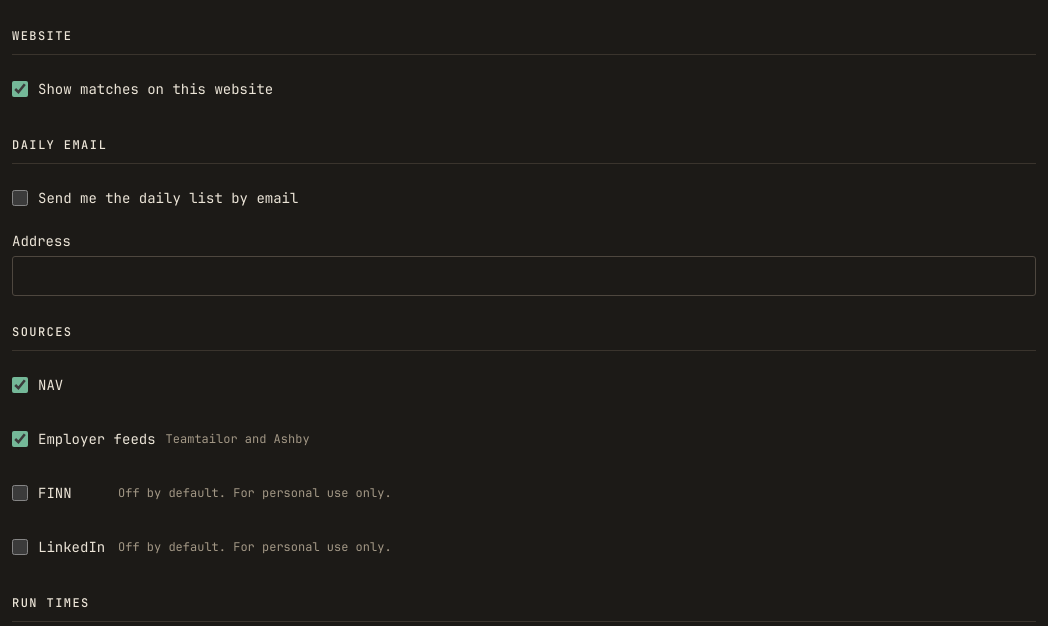
Test: DeliverySettings › should refuse to turn off the website when email is off
The image size is (1048, 626).
Click the checkbox labelled "Show matches on this website": (20, 89) [12, 81, 28, 97]
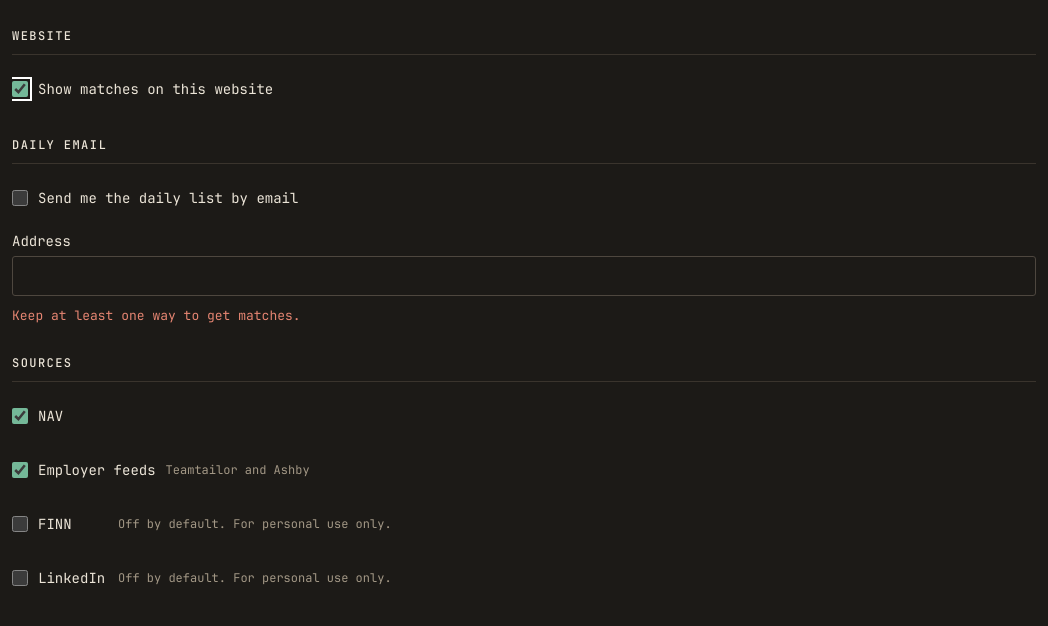
Expected: the message reads "Keep at least one way to get matches.", [12, 307, 301, 324]
